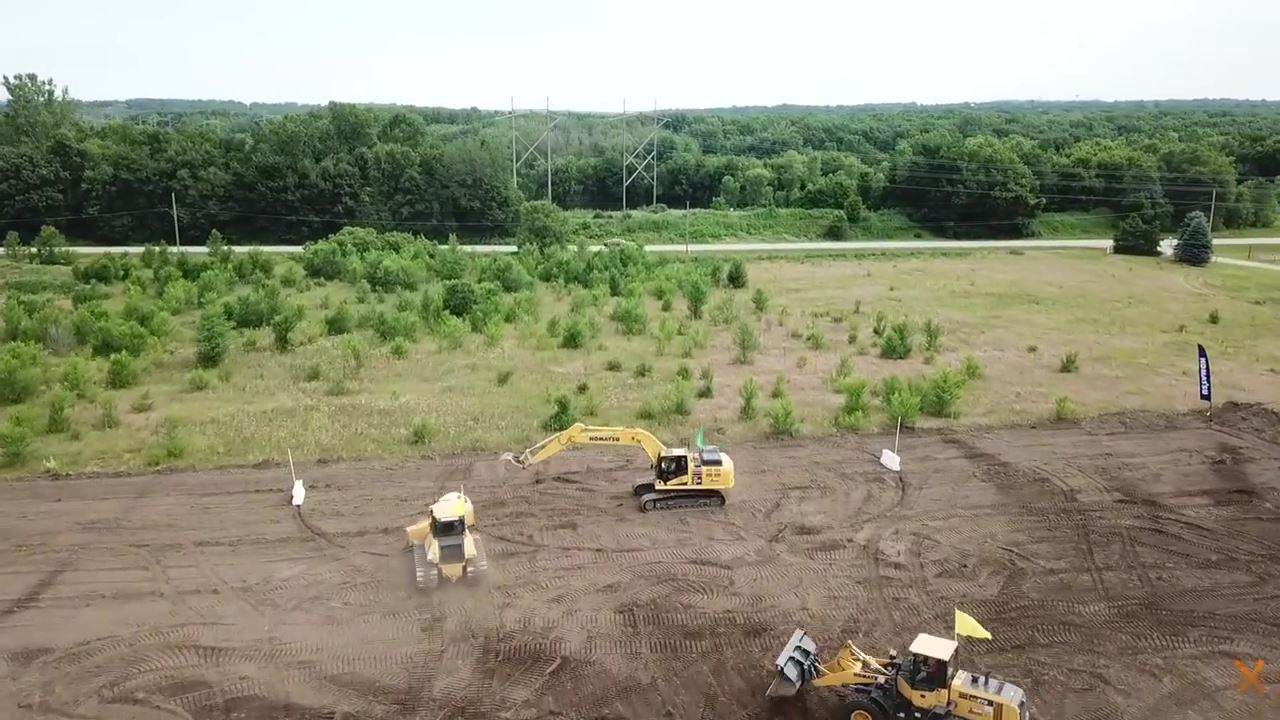con_eq: (762, 623, 1038, 716), (504, 421, 736, 510), (403, 485, 490, 591)
